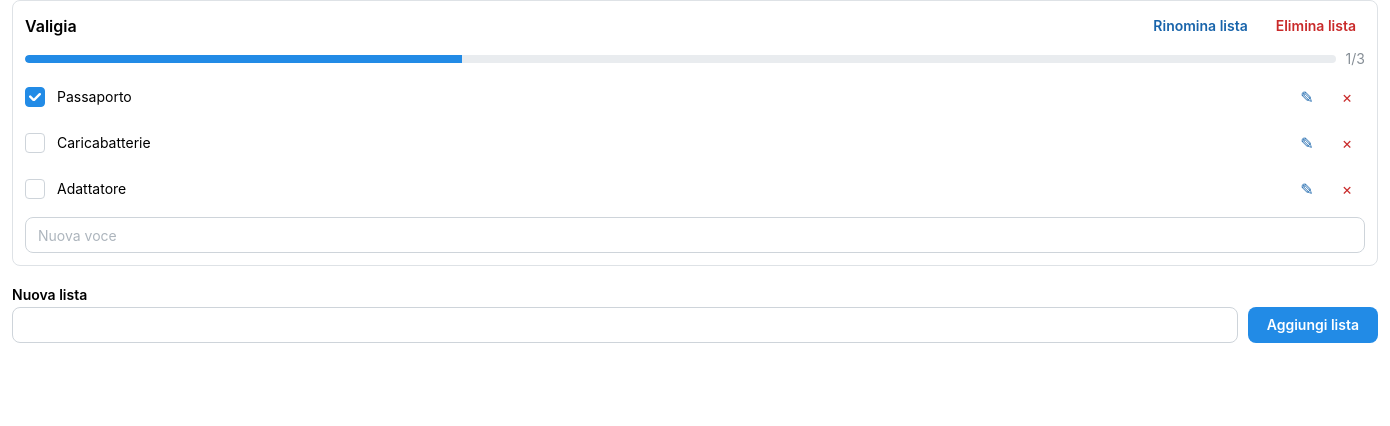
Test: shows an Italian error when a checklist delete fails
Step 1. Click the button "Elimina lista" → (1316, 26), box [1267, 13, 1365, 39]
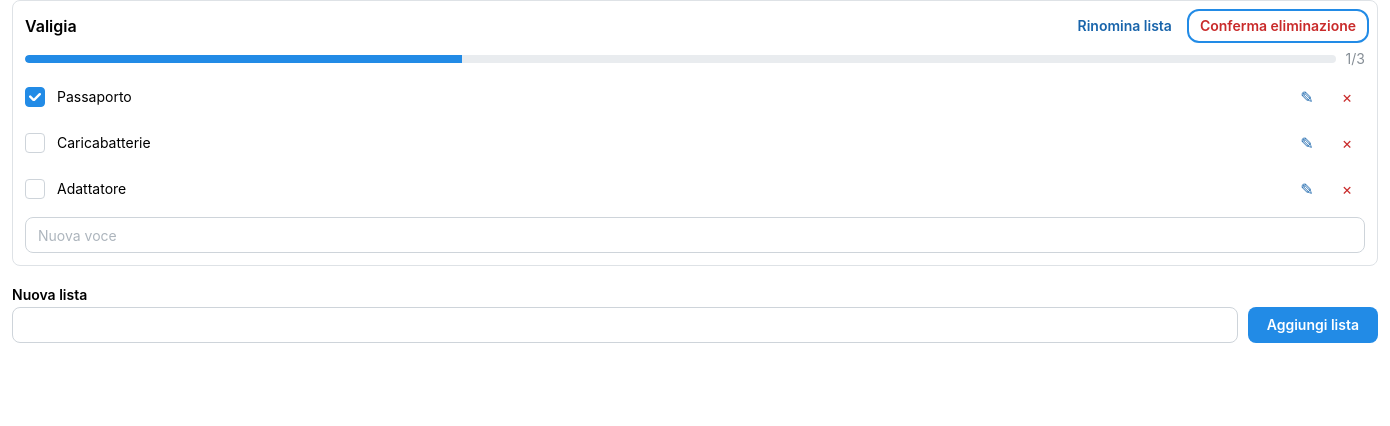
Step 2. Click the button "Conferma eliminazione" → (1278, 26), box [1191, 13, 1365, 39]
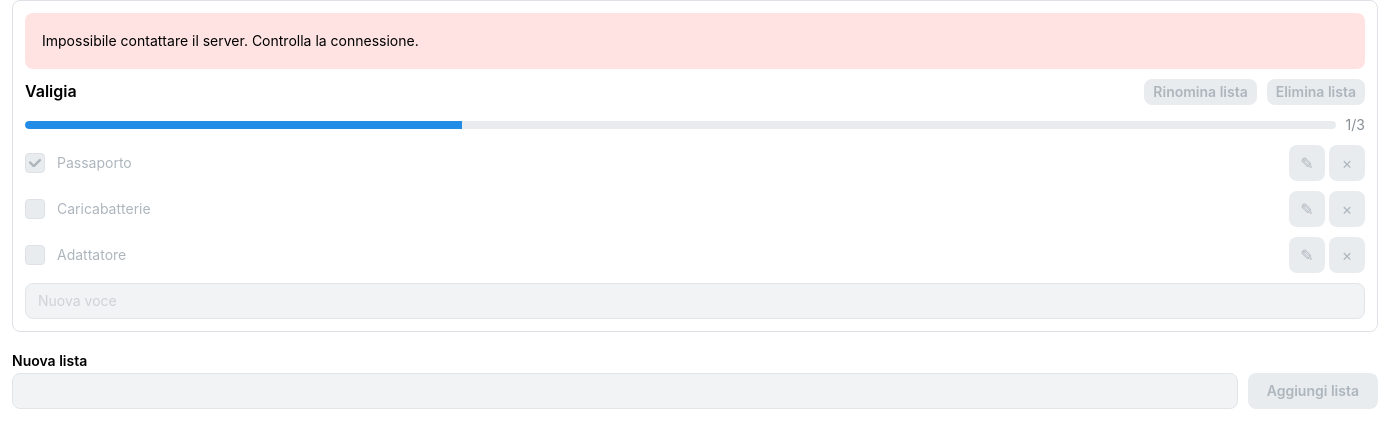
Expected: the text "Impossibile contattare il server. Controlla la connessione." is shown, [42, 32, 419, 49]
